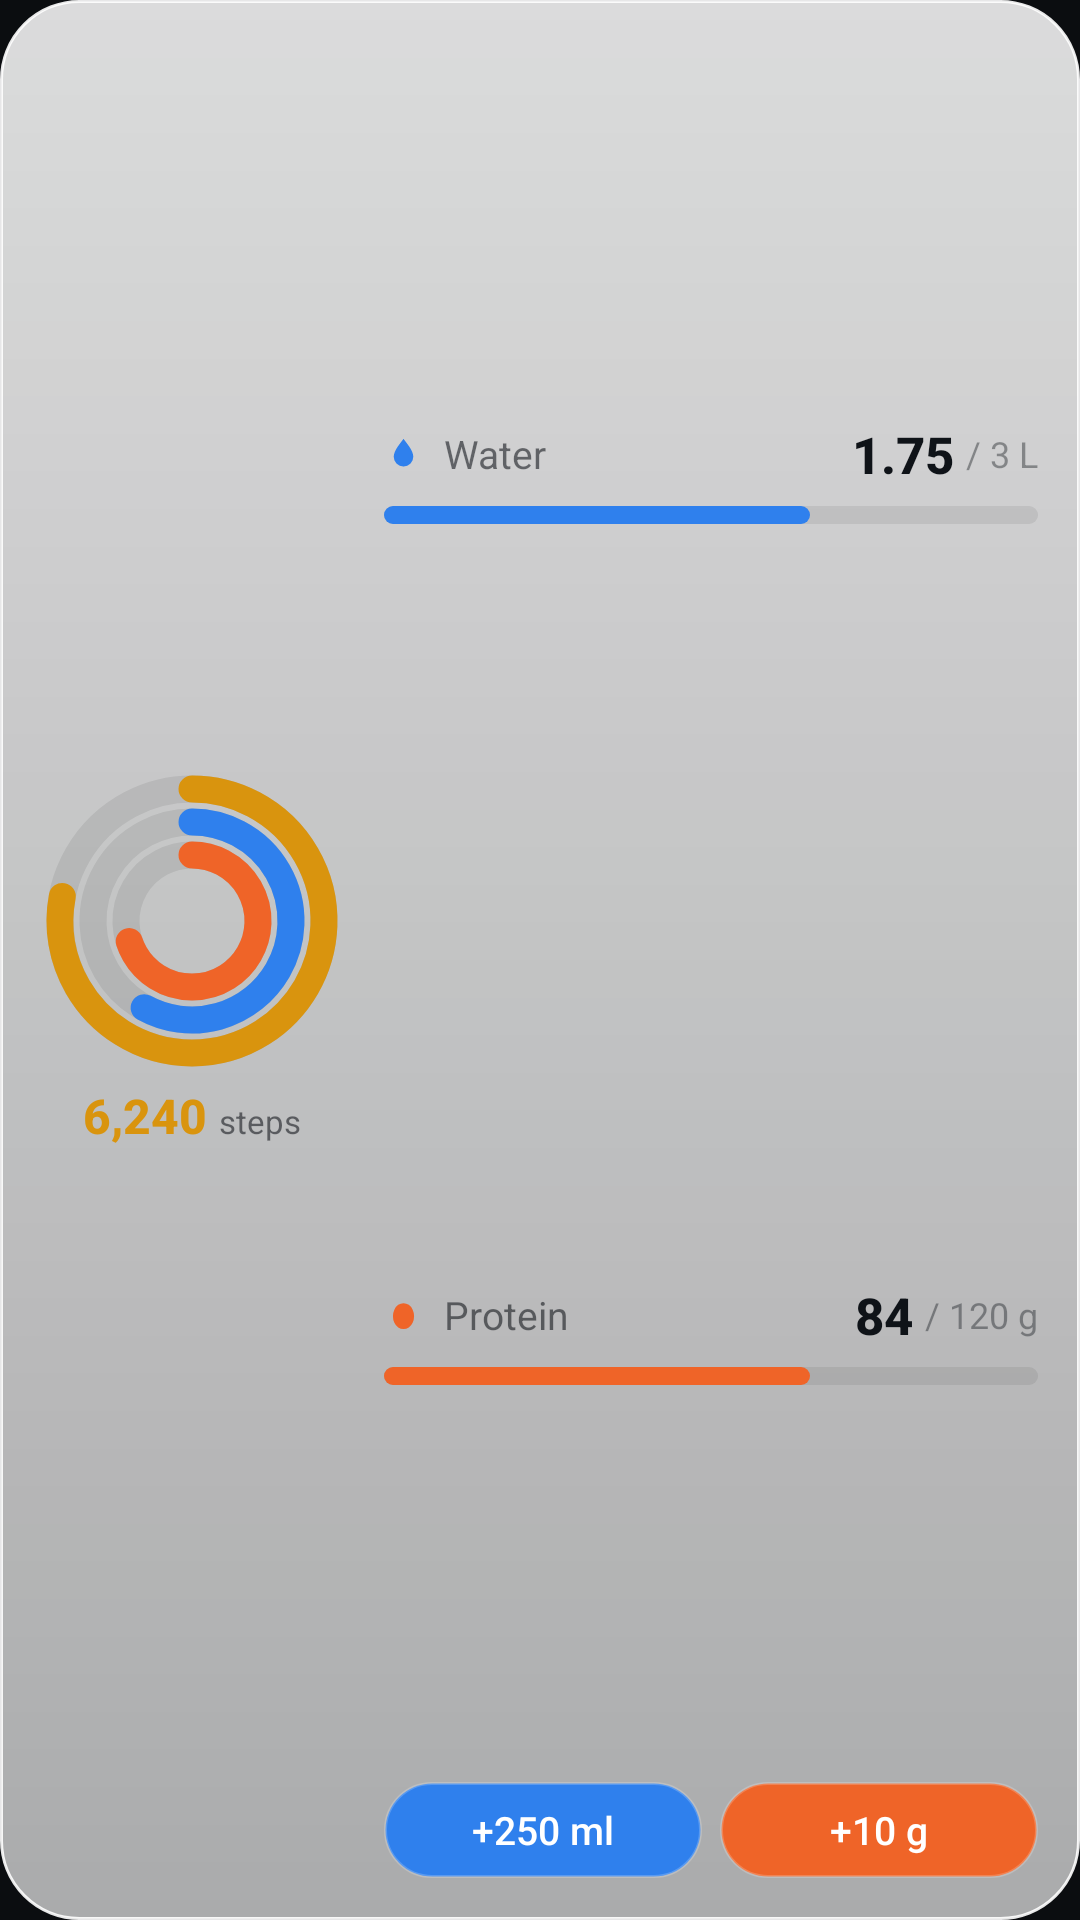

Icon click points for this 1080 x 1920 phone screenshot, format (x=x, y=y):
widget drop: (x=403, y=453)
widget rings: (x=192, y=921)
